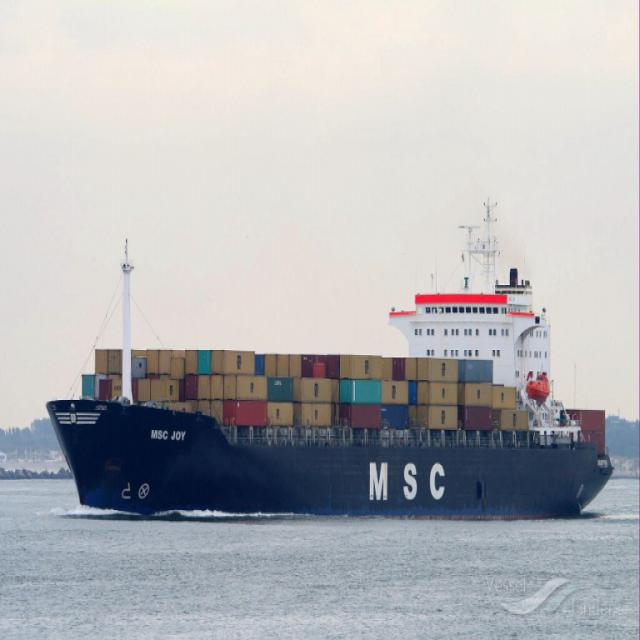Container Ship: (46, 226, 612, 515)
